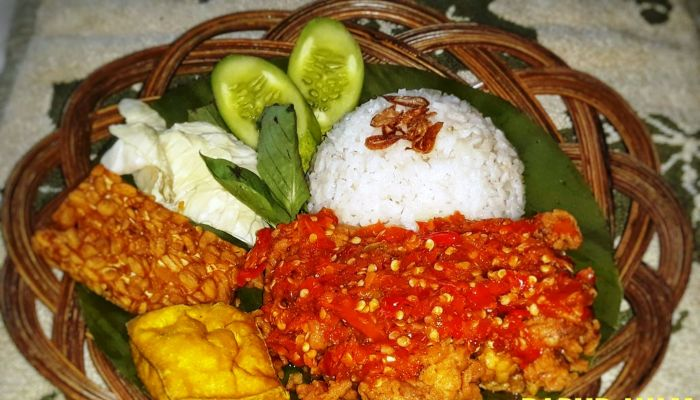ayam_geprek: (252, 217, 594, 400)
